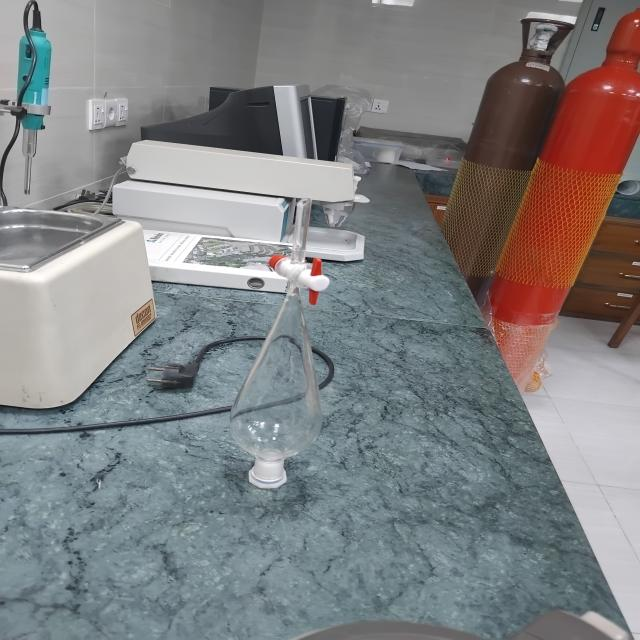Separating_Funnel: (226, 160, 346, 525)
